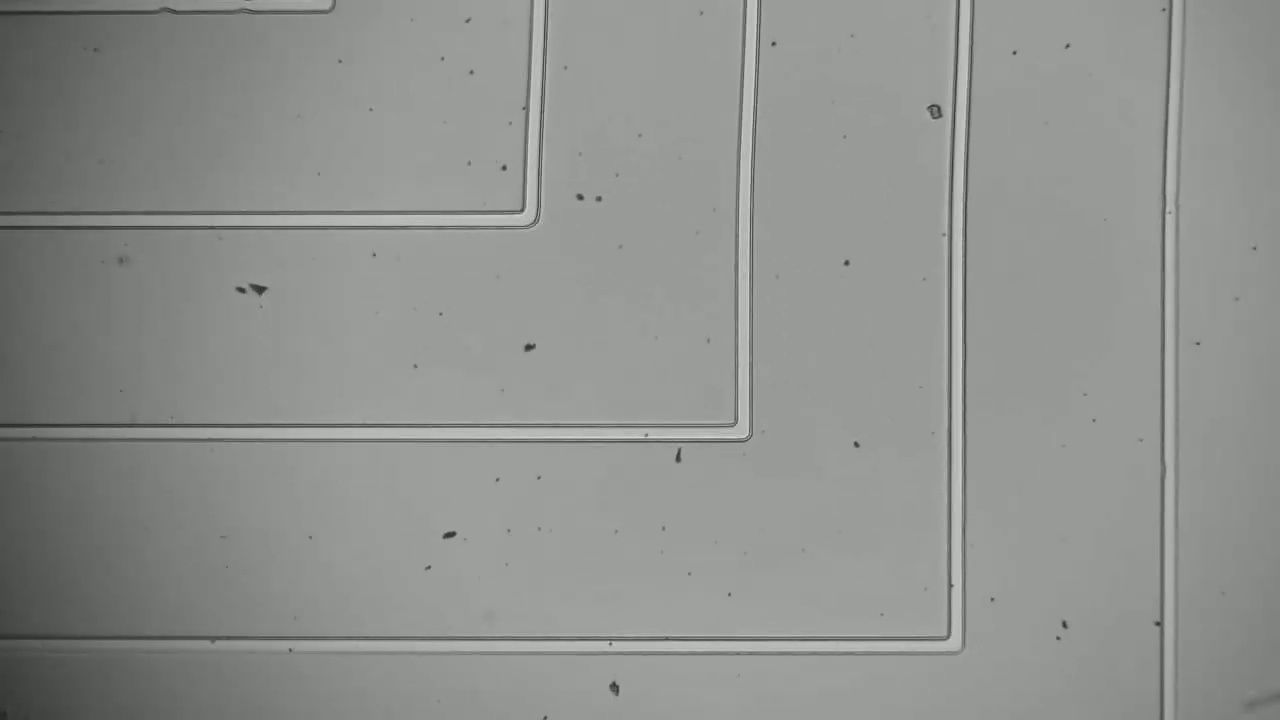edge_bite: (150, 0, 184, 21), (226, 0, 254, 23)
